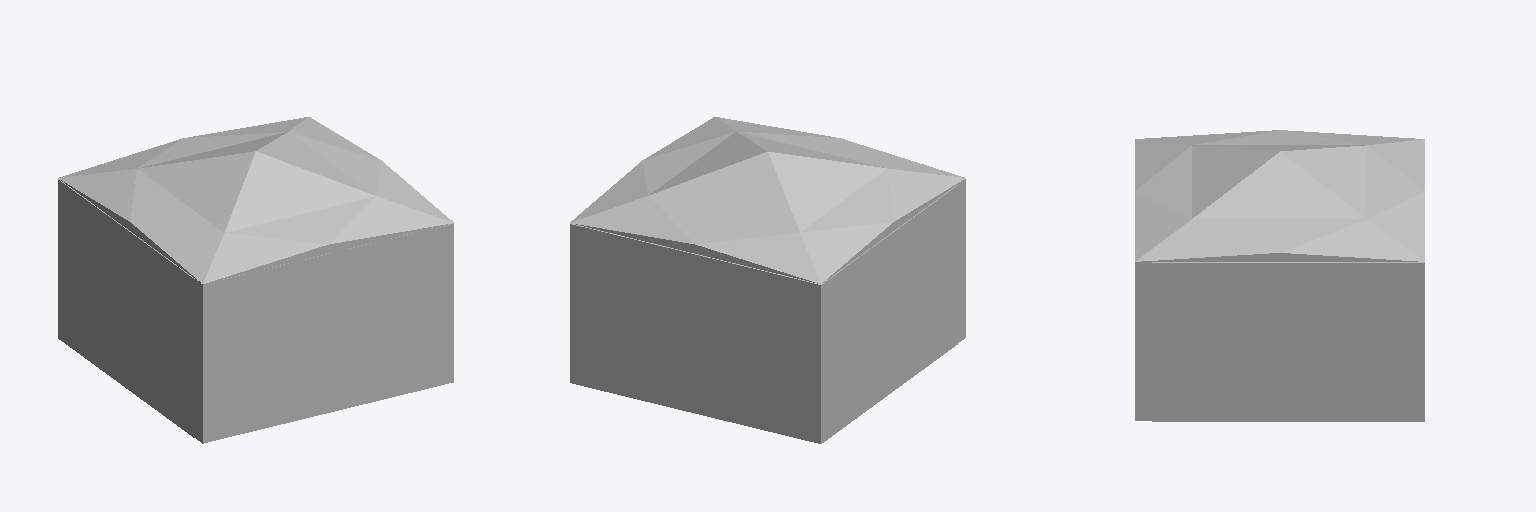
File: testHouse.obj
3 views of the same model, side by side, from view 1: azimuth 30°, elevation 25°; view 2: azimuth 150°, elevation 25°; view 3: azimuth 270°, elevation 25° (orthographic).
Parts seen in each view (by area): view 1: Cube_3, Cube_4, Cube_3_2, Cube_3_1; view 2: Cube_3_1, Cube_4, Cube_3_2, Cube_3; view 3: Cube_3_3, Cube_4, Cube_3_1, Cube_3.
Boxes of the visible parts, x1,y1,x2,y2 form: Cube_3: [194, 223, 453, 443]; Cube_4: [58, 117, 453, 283]; Cube_3_2: [66, 185, 193, 437]; Cube_3_1: [58, 179, 65, 343]; Cube_3_1: [570, 223, 829, 443]; Cube_4: [570, 117, 965, 283]; Cube_3_2: [829, 185, 957, 437]; Cube_3: [958, 179, 965, 342]; Cube_3_3: [1152, 262, 1407, 421]; Cube_4: [1135, 130, 1424, 261]; Cube_3_1: [1408, 262, 1424, 421]; Cube_3: [1135, 262, 1151, 420].
Bounding box in the file's own units: 2.73 × 2.17 × 2.73.